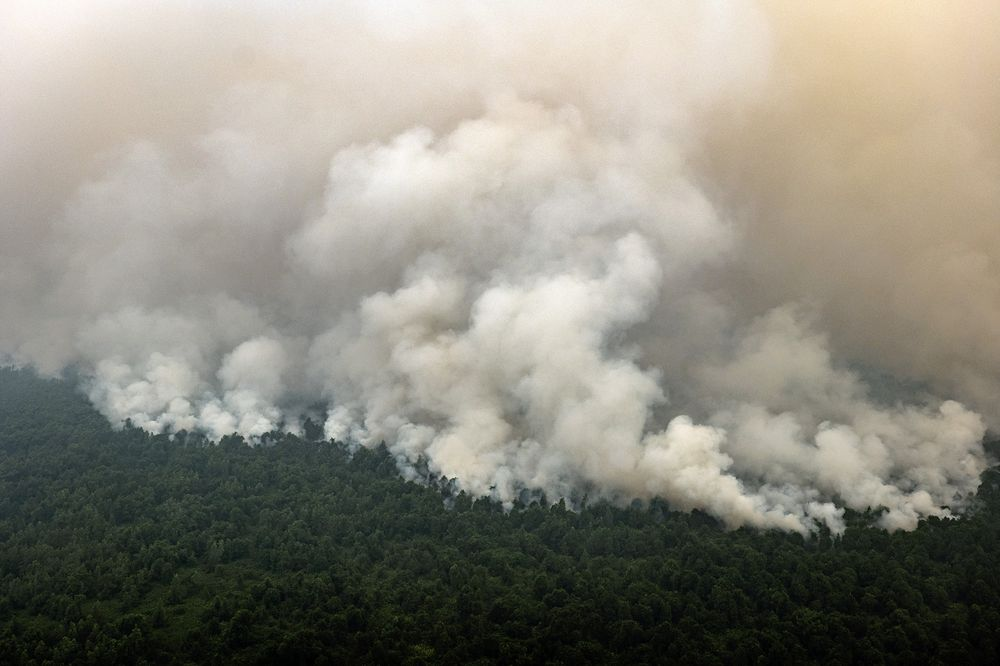smoke: (4, 4, 993, 427)
